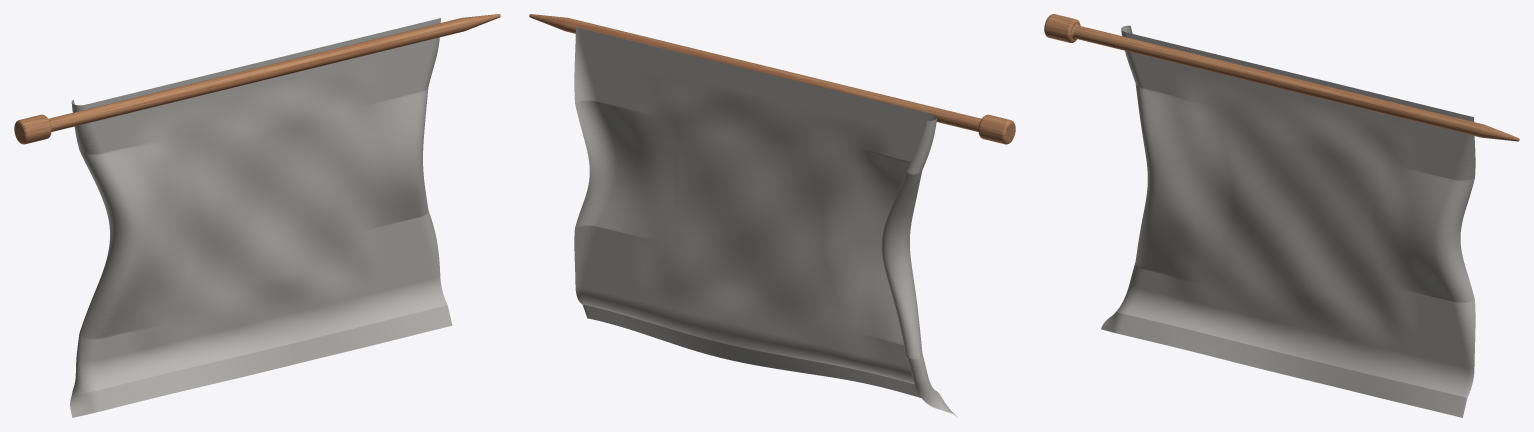
The model's file is wool_swatch.glb.
The picture shows the model from 3 angles, left to right: view 1: azimuth 30°, elevation 25°; view 2: azimuth 150°, elevation 25°; view 3: azimuth 330°, elevation 25°; orthographic projection. The views are drawn at different scales.
Visible parts, largest first — view 1: swatch, needle; view 2: swatch, needle; view 3: swatch, needle.
Boxes of the visible parts, box(x1,y1,x2,y2) form: swatch: box(70, 18, 452, 417); needle: box(14, 14, 500, 144); swatch: box(574, 27, 957, 417); needle: box(529, 14, 1015, 144); swatch: box(1101, 25, 1475, 417); needle: box(1044, 14, 1519, 141).
Bounding box in the file's own units: 0.1709 × 0.105 × 0.0152.
Materials: 2 (1 with a texture image).
